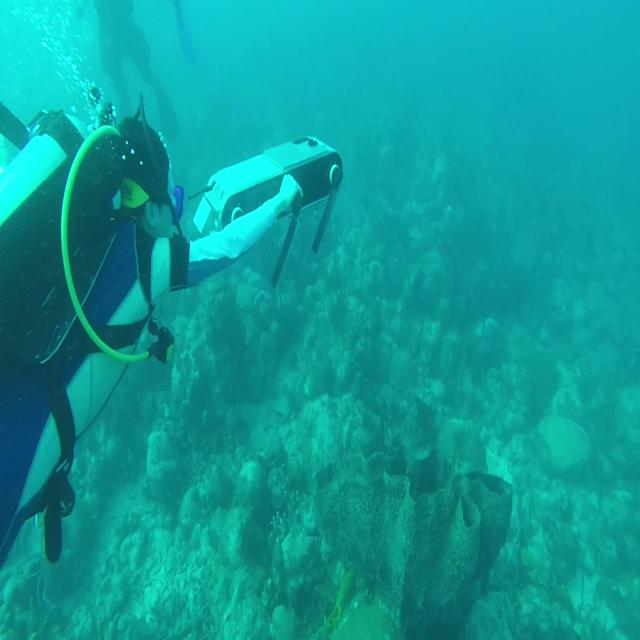human: (1, 91, 337, 567)
